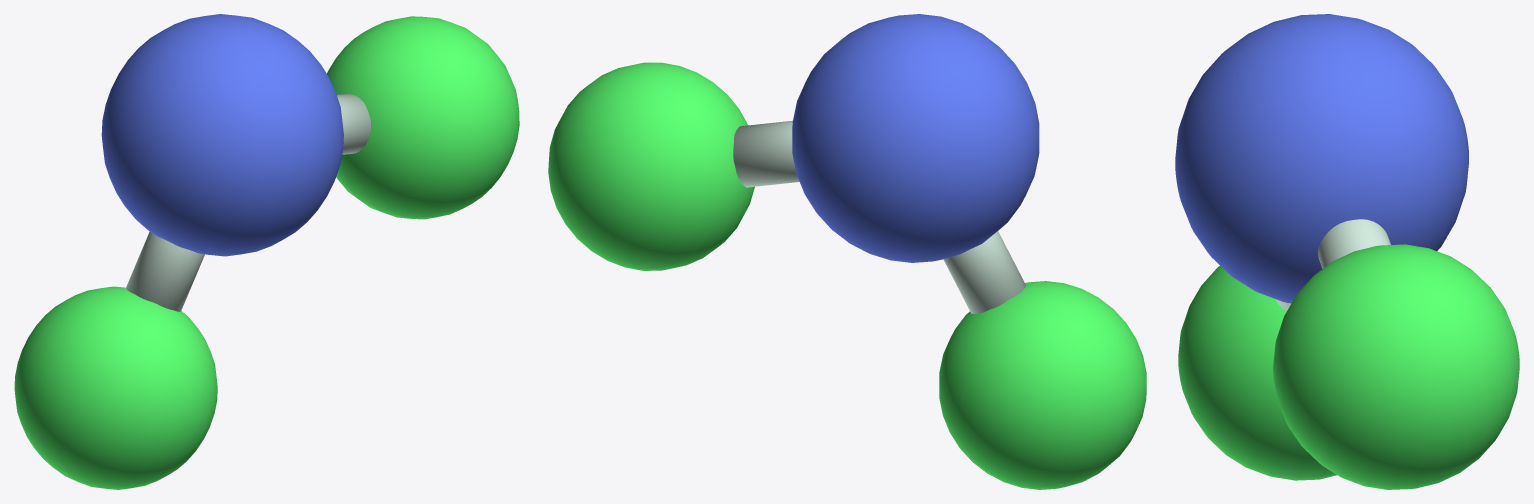
Rendered from compoundModel4.glb.
3 renders of one model, left to right at view 1: azimuth 30°, elevation 25°; view 2: azimuth 150°, elevation 25°; view 3: azimuth 270°, elevation 25°, orthographic. The views are drawn at different scales.
Parts seen in each view (by area): view 1: Oxygen, Hydrogen.001, Hydrogen.000, connection.001, connection.000; view 2: Oxygen, Hydrogen.001, Hydrogen.000, connection.001, connection.000; view 3: Oxygen, Hydrogen.000, Hydrogen.001, connection.000.
Part boxes in pixels (x1,y1,x2,y2): Oxygen: [101, 14, 343, 256]; Hydrogen.001: [14, 286, 217, 489]; Hydrogen.000: [327, 16, 519, 219]; connection.001: [126, 231, 204, 311]; connection.000: [337, 94, 370, 154]; Oxygen: [792, 14, 1039, 262]; Hydrogen.001: [939, 281, 1146, 489]; Hydrogen.000: [548, 62, 754, 270]; connection.001: [943, 231, 1025, 313]; connection.000: [733, 120, 799, 187]; Oxygen: [1175, 14, 1468, 303]; Hydrogen.000: [1273, 244, 1519, 489]; Hydrogen.001: [1178, 266, 1337, 480]; connection.000: [1318, 219, 1390, 268].
Bounding box in the file's own units: 2.05 × 1.59 × 0.9758.
